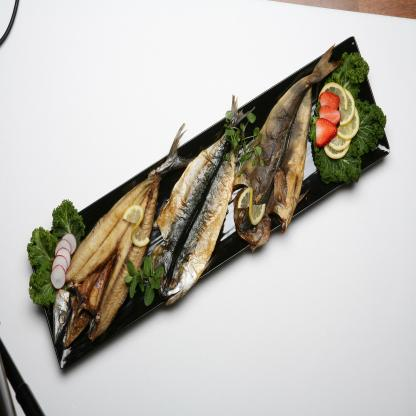Peixe: (233, 55, 330, 249), (49, 176, 151, 360), (156, 118, 237, 298)
